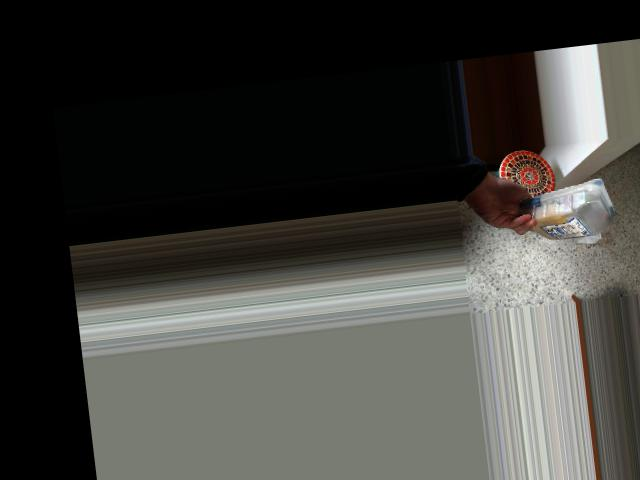cheese: (520, 181, 619, 244)
